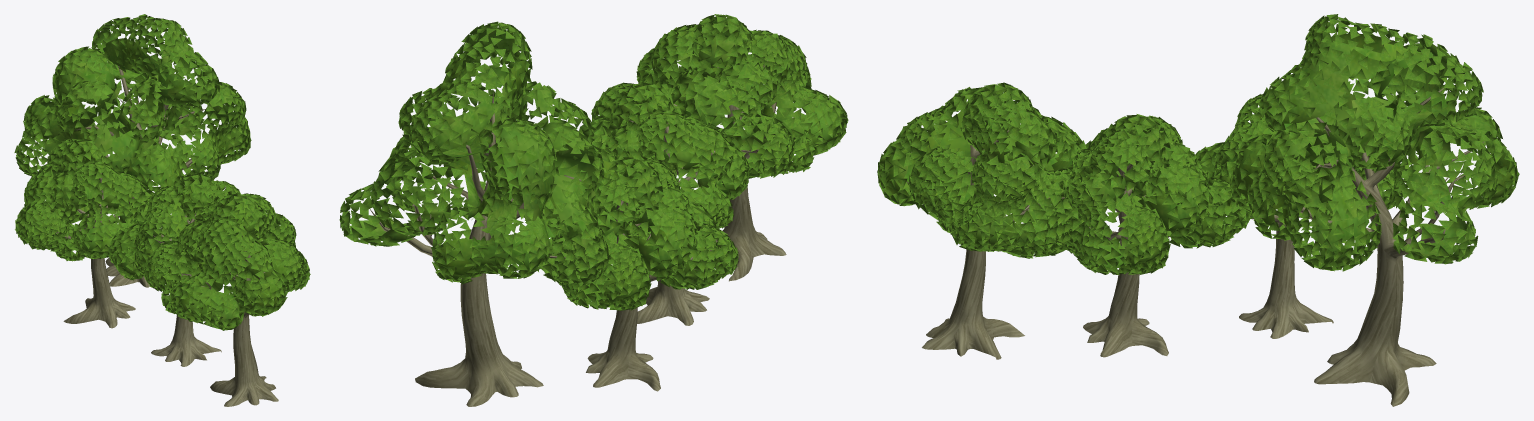
File: SM_ENV_LKNVLD_TreeSet_D.FBX
3 renders of one model, left to right at view 1: azimuth 30°, elevation 25°; view 2: azimuth 150°, elevation 25°; view 3: azimuth 270°, elevation 25°, orthographic. The views are drawn at different scales.
Parts seen in each view (by area): view 1: SM_ENV_LKNVLD_TreeSet_D; view 2: SM_ENV_LKNVLD_TreeSet_D; view 3: SM_ENV_LKNVLD_TreeSet_D.
Part boxes in pixels (x1,y1,x2,y2): SM_ENV_LKNVLD_TreeSet_D: [14, 14, 310, 406]; SM_ENV_LKNVLD_TreeSet_D: [339, 14, 848, 406]; SM_ENV_LKNVLD_TreeSet_D: [877, 14, 1519, 406].
Size of the model in its own units: 1349 by 1393 by 2241.
